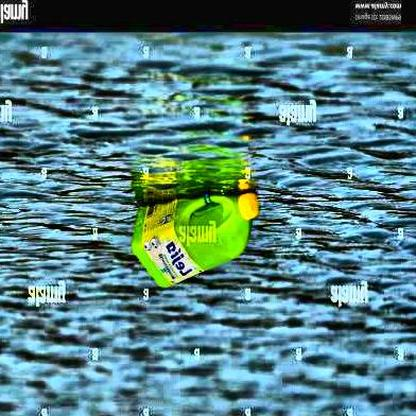plastic bottle: (130, 193, 259, 289)
